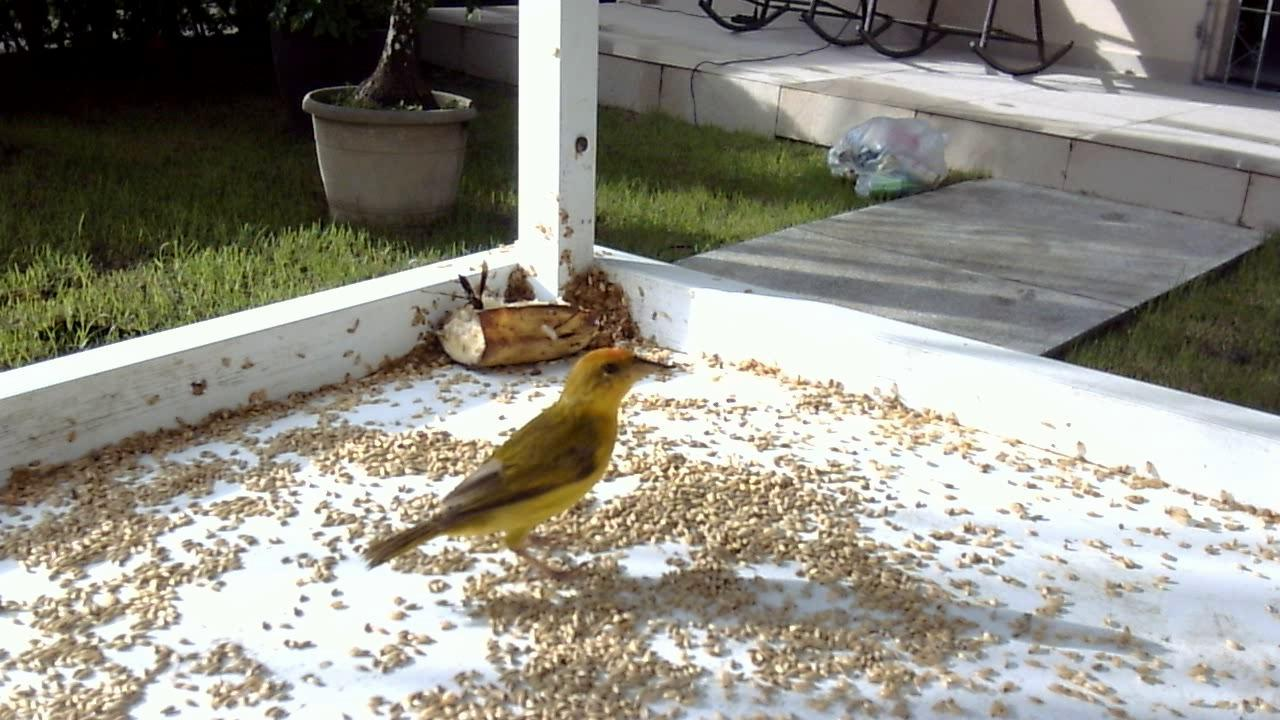canario_do_amazonas: (346, 341, 684, 593)
